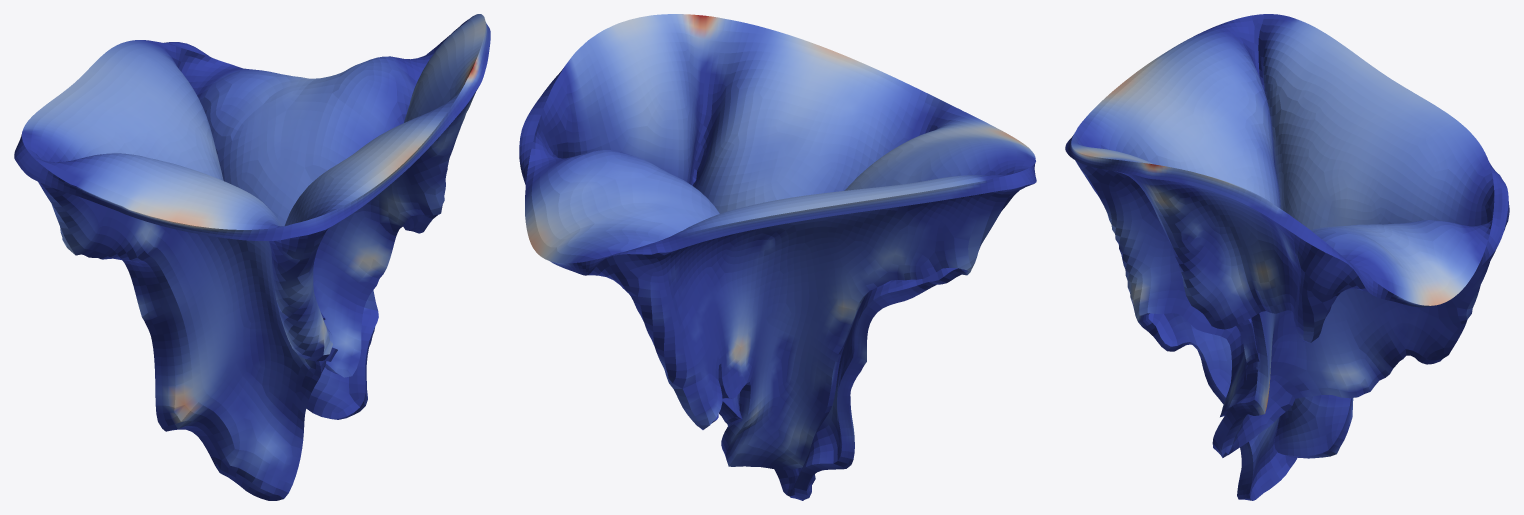
The picture shows the model from 3 angles, left to right: view 1: azimuth 30°, elevation 25°; view 2: azimuth 150°, elevation 25°; view 3: azimuth 270°, elevation 25°; orthographic projection. The views are drawn at different scales.
Visible parts, largest first — view 1: OCS14_maxS_11; view 2: OCS14_maxS_11; view 3: OCS14_maxS_11.
Part boxes in pixels (x1,y1,x2,y2): OCS14_maxS_11: [14, 14, 490, 500]; OCS14_maxS_11: [519, 14, 1036, 500]; OCS14_maxS_11: [1065, 14, 1509, 500].
Size of the model in its own units: 1.43 by 1.24 by 1.22.
